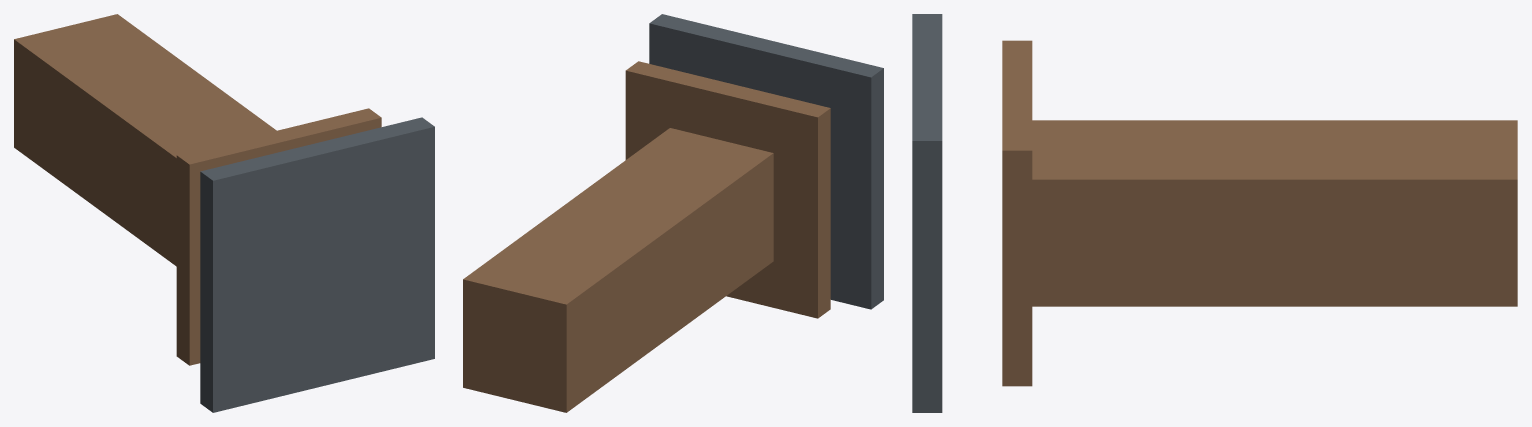
Rendered from watchtower.glb.
3 renders of one model, left to right at view 1: azimuth 30°, elevation 25°; view 2: azimuth 150°, elevation 25°; view 3: azimuth 270°, elevation 25°, orthographic. The views are drawn at different scales.
Parts seen in each view (by area): view 1: g2_roof, g0_tower, g1_platform; view 2: g0_tower, g1_platform, g2_roof; view 3: g0_tower, g2_roof, g1_platform.
Part boxes in pixels (x1=…): g2_roof: x1=200, y1=117, x2=434, y2=412; g0_tower: x1=14, y1=14, x2=276, y2=266; g1_platform: x1=176, y1=108, x2=381, y2=365; g0_tower: x1=463, y1=128, x2=773, y2=412; g1_platform: x1=625, y1=61, x2=830, y2=318; g2_roof: x1=649, y1=14, x2=883, y2=309; g0_tower: x1=1032, y1=120, x2=1517, y2=306; g2_roof: x1=912, y1=14, x2=942, y2=412; g1_platform: x1=1002, y1=40, x2=1032, y2=386.
Bounding box in the file's own units: 1.5 × 1.5 × 3.03.
